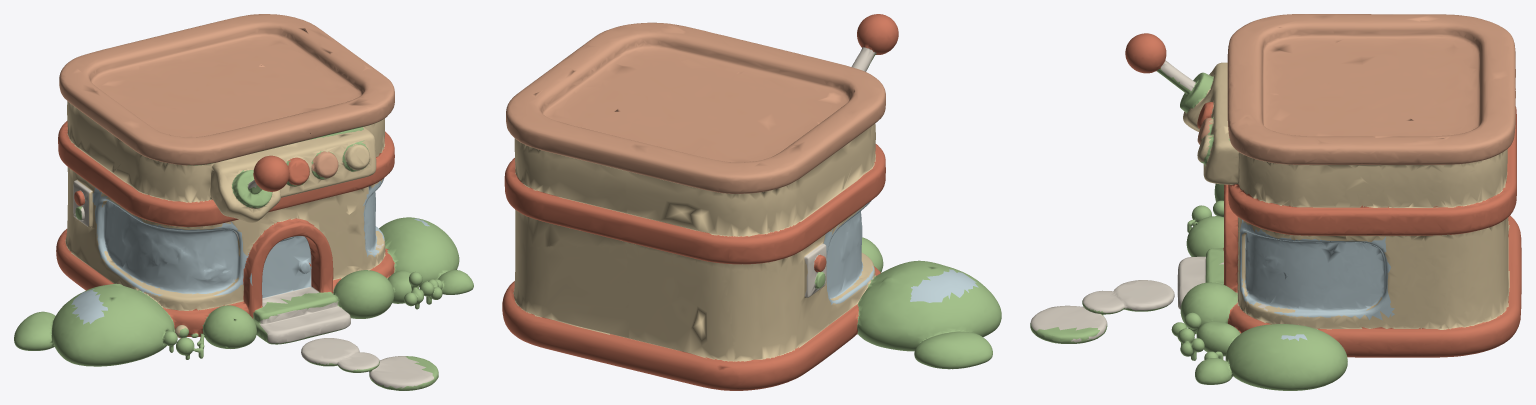
Rendered from arcade.glb.
3 views of the same model, side by side, from view 1: azimuth 30°, elevation 25°; view 2: azimuth 150°, elevation 25°; view 3: azimuth 270°, elevation 25° (orthographic). The views are drawn at different scales.
Visible parts, largest first — view 1: tripo_node_936141cc-d055-4d45-a2b9-20d14d09da18; view 2: tripo_node_936141cc-d055-4d45-a2b9-20d14d09da18; view 3: tripo_node_936141cc-d055-4d45-a2b9-20d14d09da18.
Boxes of the visible parts, x1=… form: tripo_node_936141cc-d055-4d45-a2b9-20d14d09da18: x1=14, y1=14, x2=473, y2=390; tripo_node_936141cc-d055-4d45-a2b9-20d14d09da18: x1=502, y1=14, x2=1001, y2=390; tripo_node_936141cc-d055-4d45-a2b9-20d14d09da18: x1=1030, y1=14, x2=1521, y2=390.
Bounding box in the file's own units: 1 × 0.4942 × 0.9132.
